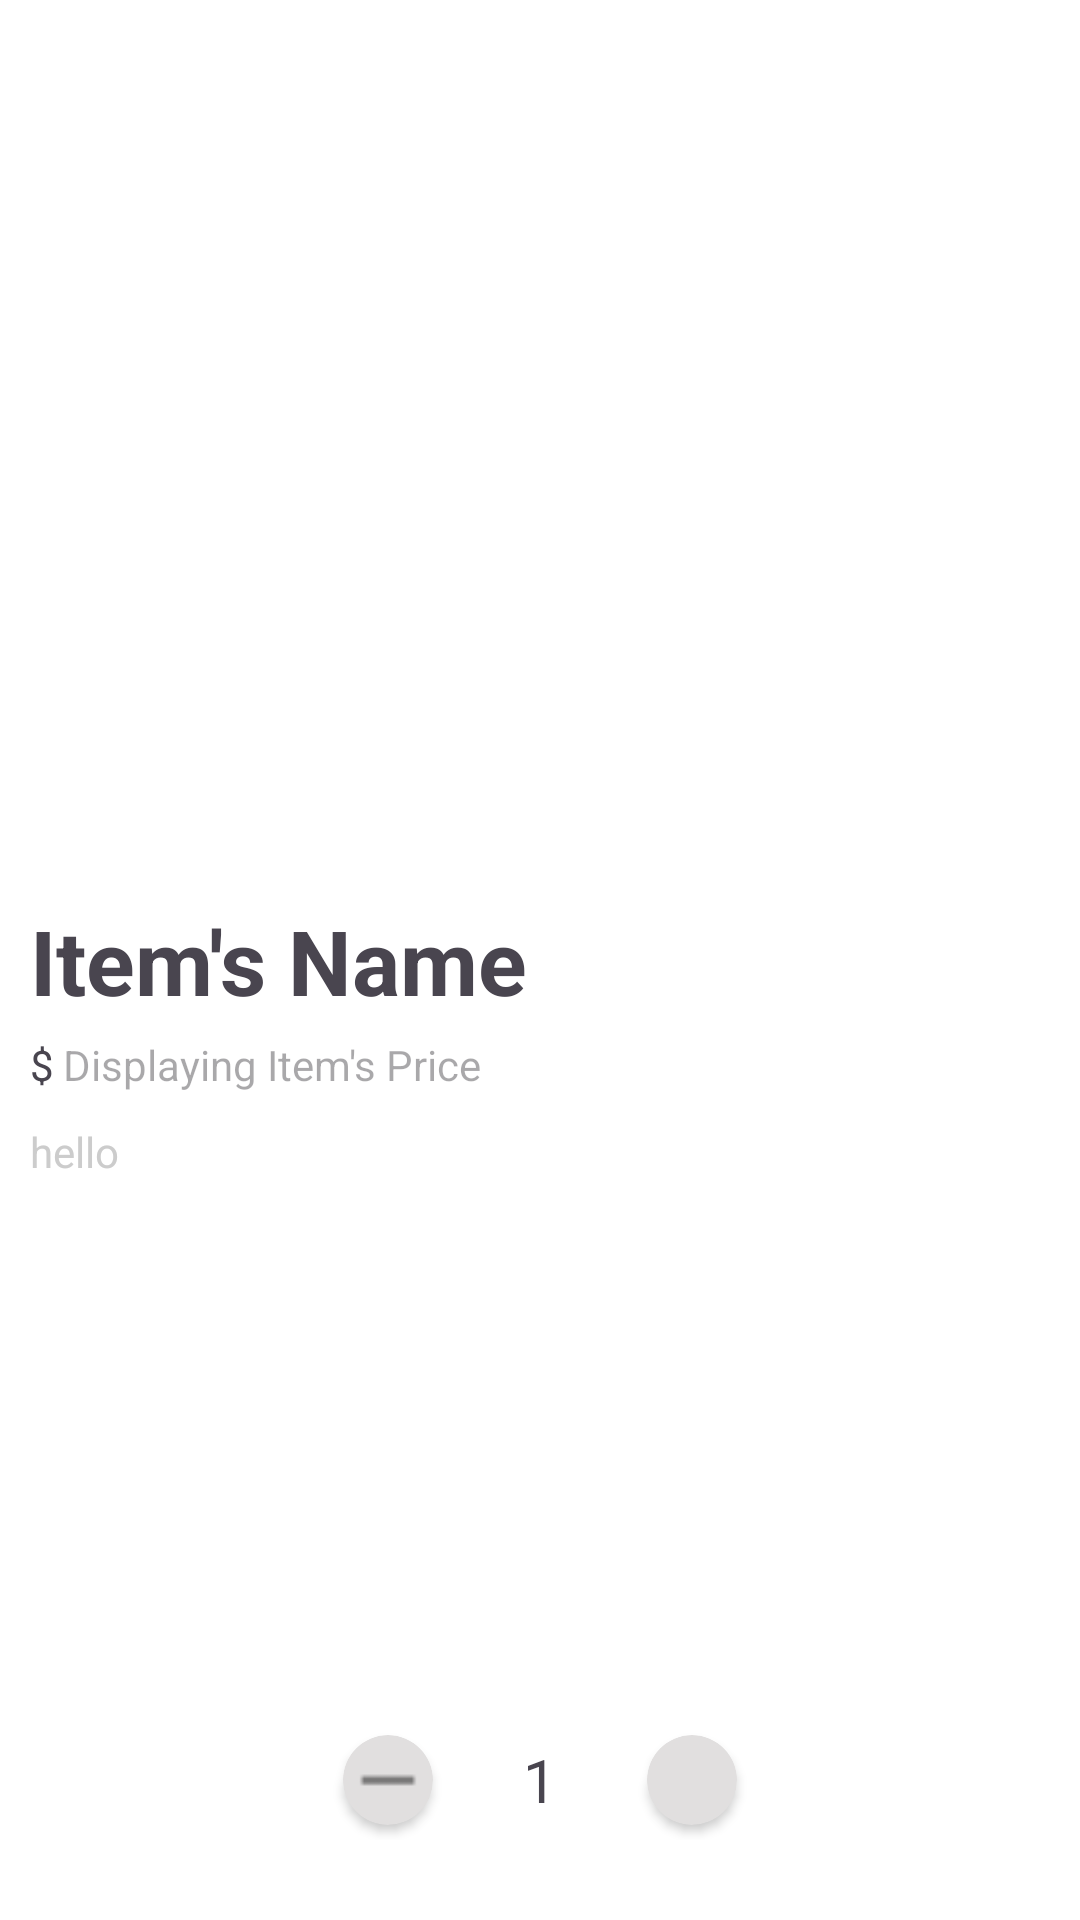

Where to tap for icons on this 1080*1920 app screen, as (x,y):
minus: (388,1780)
